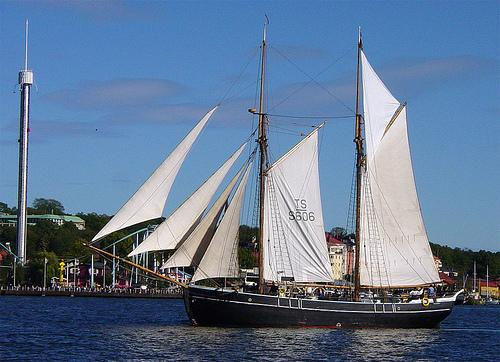Ship: (84, 23, 457, 330)
